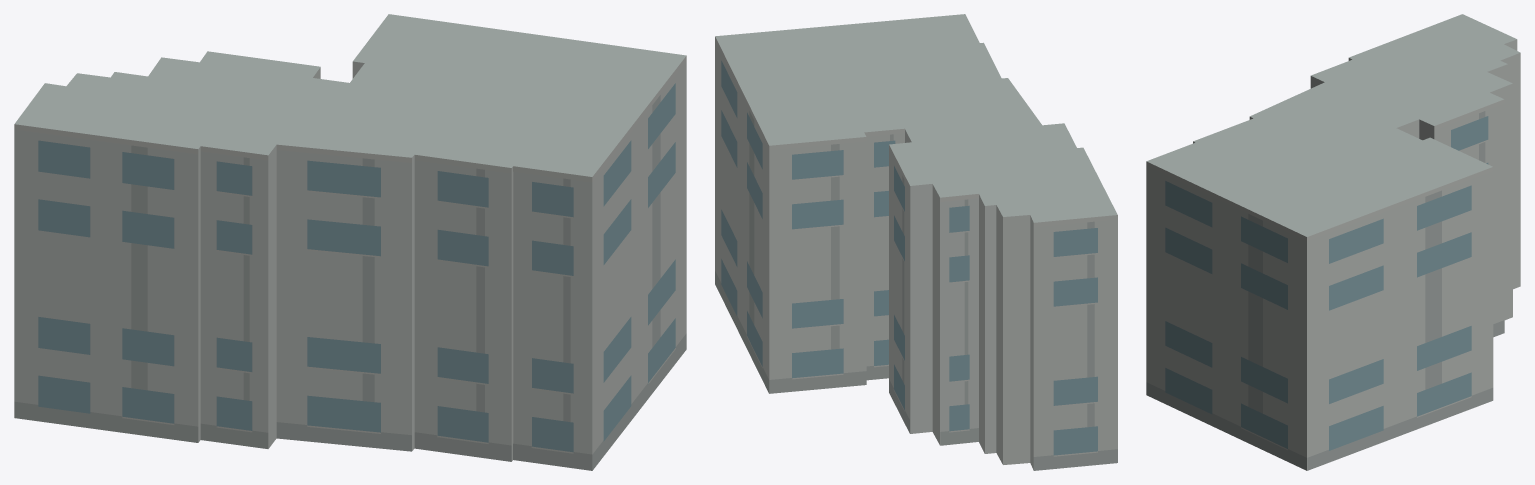
Rendered from survey-upis-32630223.glb.
The picture shows the model from 3 angles, left to right: view 1: azimuth 30°, elevation 25°; view 2: azimuth 150°, elevation 25°; view 3: azimuth 270°, elevation 25°; orthographic projection. The views are drawn at different scales.
Parts seen in each view (by area): view 1: survey-upis-32630223.tmp; view 2: survey-upis-32630223.tmp; view 3: survey-upis-32630223.tmp.
Boxes of the visible parts, x1,y1,x2,y2 form: survey-upis-32630223.tmp: (14,14,686,470); survey-upis-32630223.tmp: (715,14,1117,470); survey-upis-32630223.tmp: (1146,14,1520,470).
Bounding box in the file's own units: 27.23 × 13.3 × 19.31.
